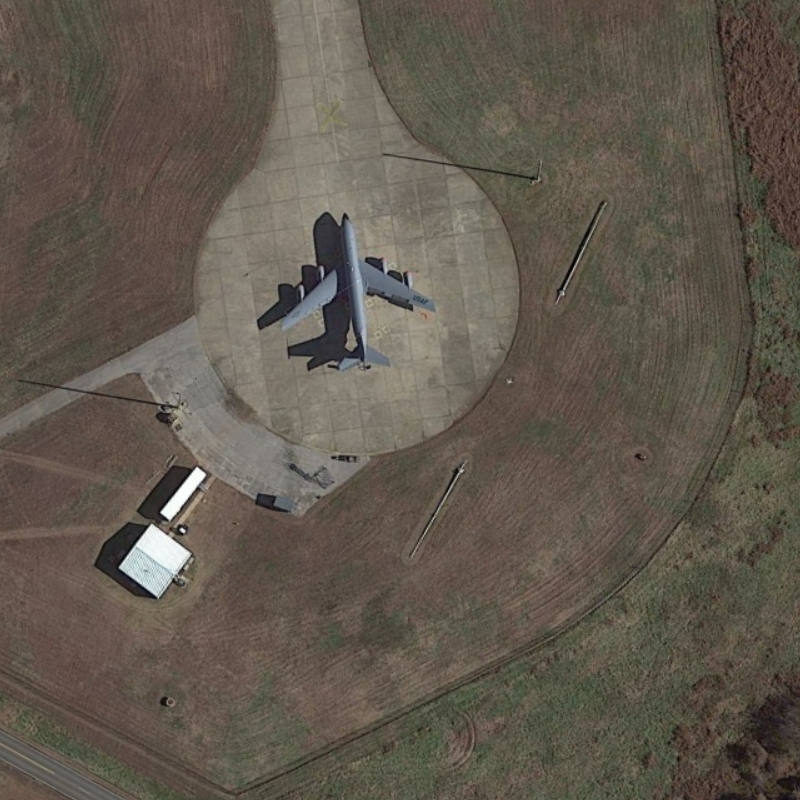A14: (275, 200, 443, 379)
